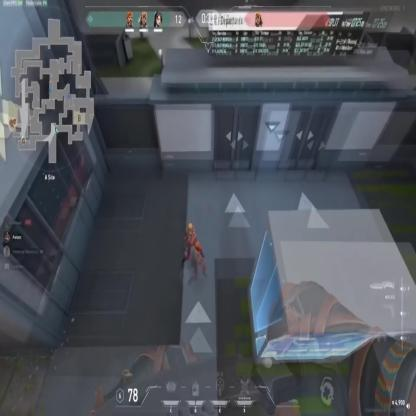enemy: (182, 220, 205, 265)
enemy_head: (188, 222, 193, 234)
